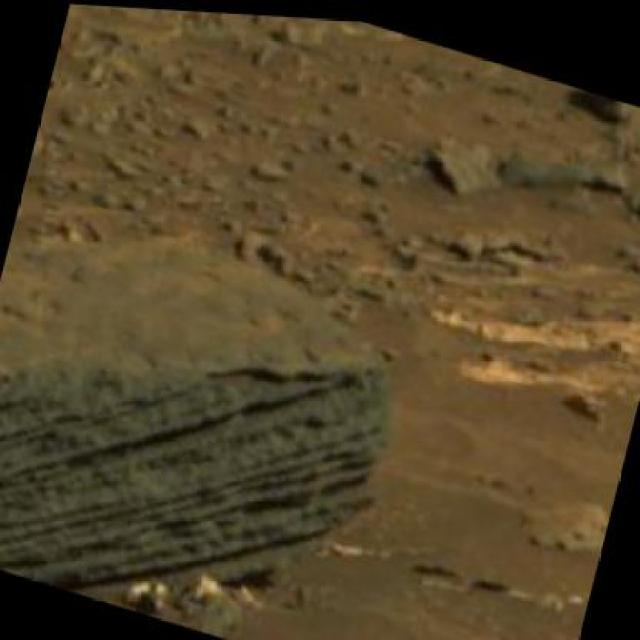rock: (0, 177, 425, 638)
